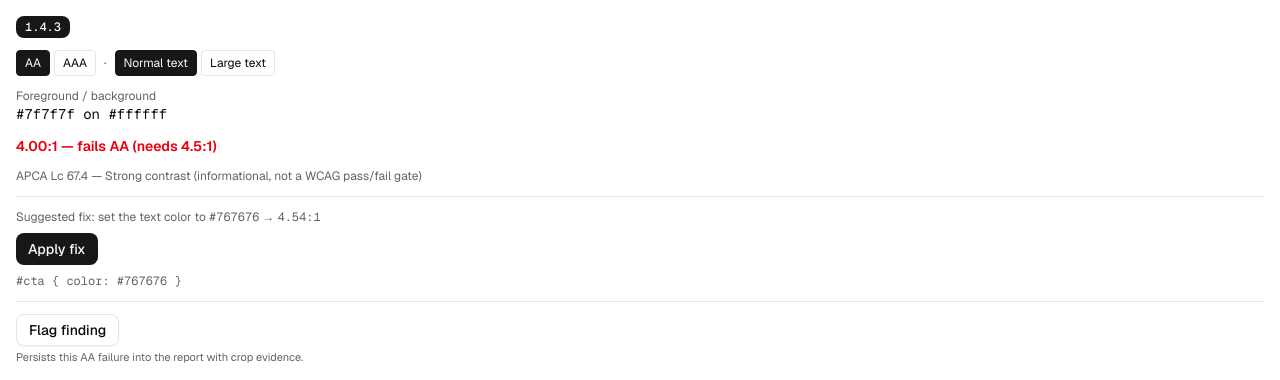
Test: ContrastFix › switching to large text lowers the required ratio (fewer fixes needed)
Check: the text "Suggested fix: set the text color to #767676 → 4.54:1" is shown, box [16,209,321,225]
Click the button with test id "target-size-large": point(238, 63) [201,50,275,76]
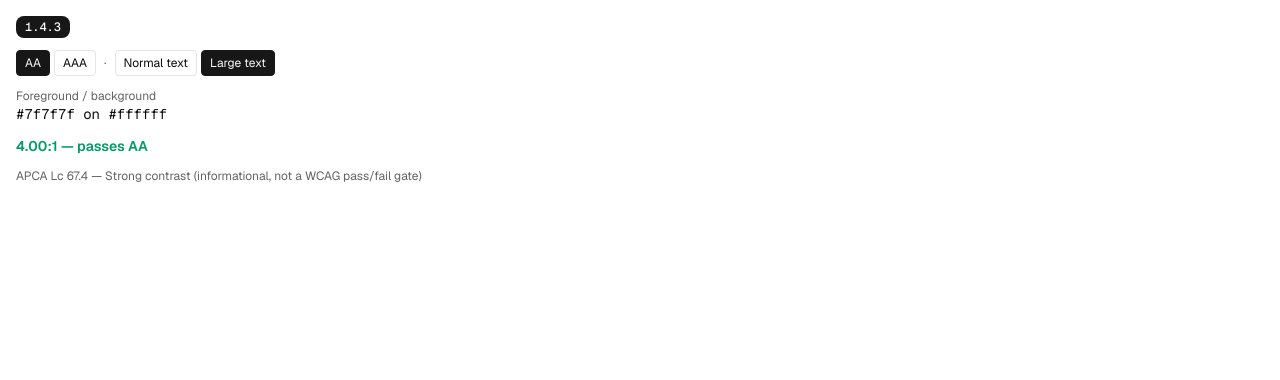
Check: the text "Suggested fix" is gone
